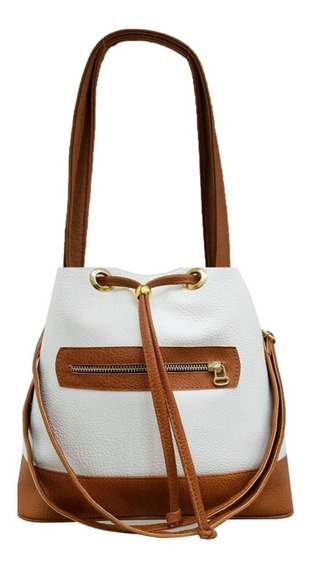cartera: (15, 27, 296, 541)
